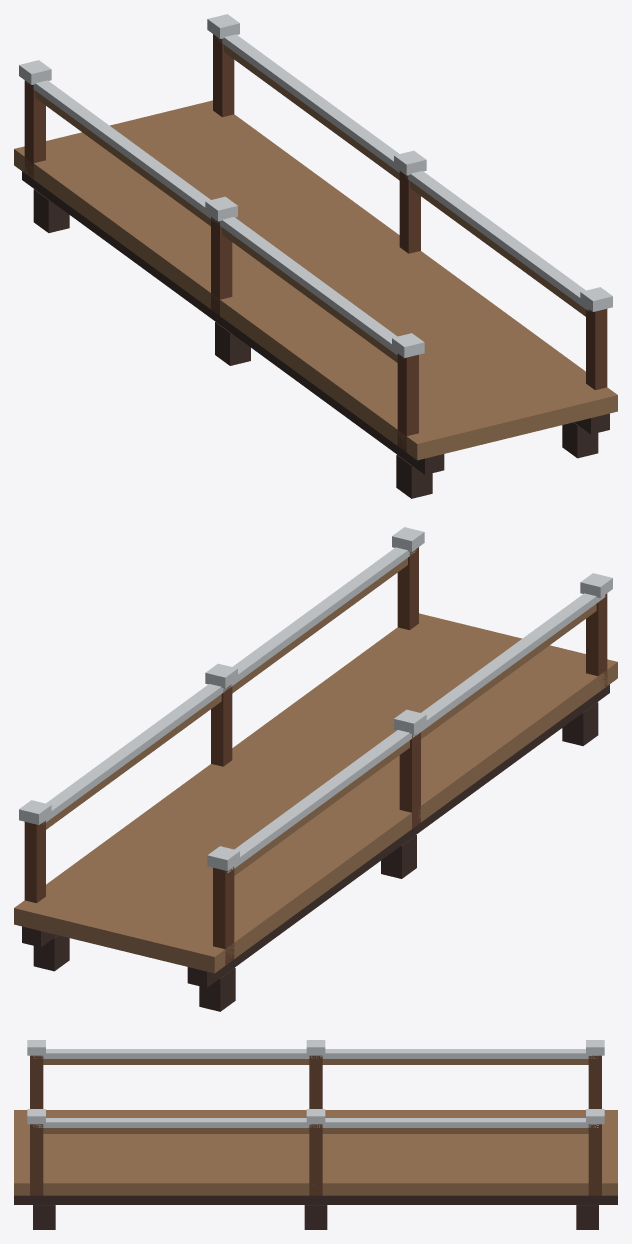
File: Frosty_TimberBridge_Standard.glb
3 views of the same model, one above another, from view 1: azimuth 30°, elevation 25°; view 2: azimuth 150°, elevation 25°; view 3: azimuth 270°, elevation 25° (orthographic). The views are drawn at different scales.
Visible parts, largest first — view 1: Frosty_TimberBridge_Standard; view 2: Frosty_TimberBridge_Standard; view 3: Frosty_TimberBridge_Standard.
Boxes of the visible parts, x1=… form: Frosty_TimberBridge_Standard: x1=14, y1=14, x2=617, y2=498; Frosty_TimberBridge_Standard: x1=14, y1=527, x2=617, y2=1011; Frosty_TimberBridge_Standard: x1=14, y1=1040, x2=617, y2=1229.
Bounding box in the file's own units: 2.39 × 1.72 × 8.
